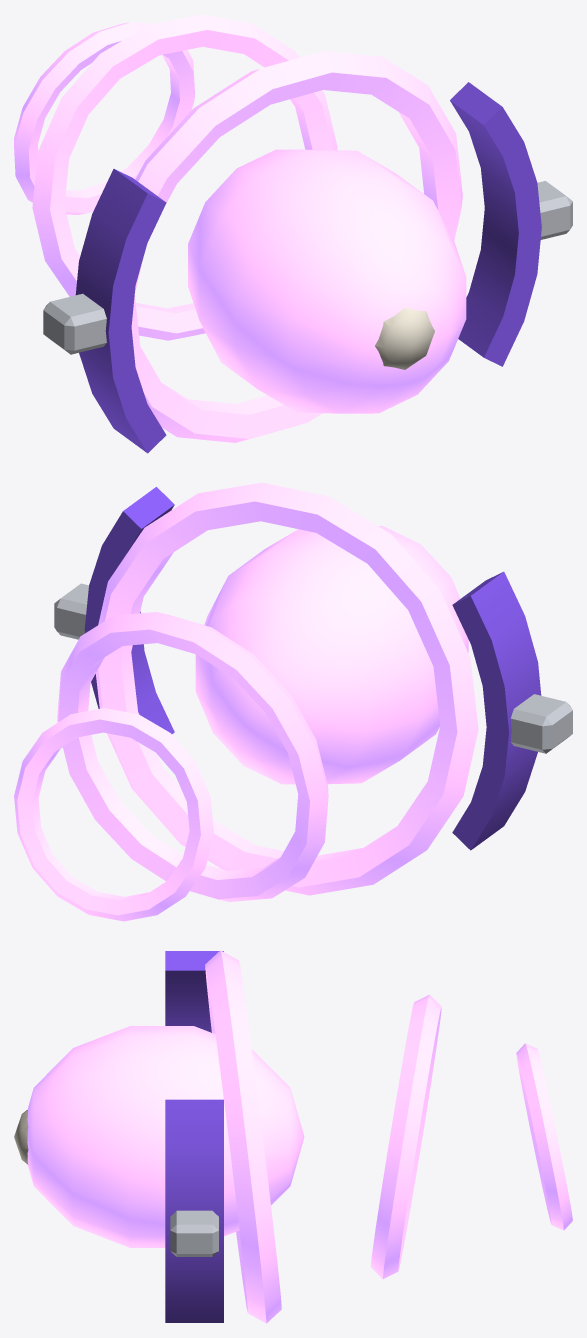
The model's file is phase.glb.
3 views of the same model, one above another, from view 1: azimuth 30°, elevation 25°; view 2: azimuth 150°, elevation 25°; view 3: azimuth 270°, elevation 25° (orthographic). The views are drawn at different scales.
Parts seen in each view (by area): view 1: Projectile; view 2: Projectile; view 3: Projectile.
Part boxes in pixels (x1,y1,x2,y2): Projectile: (14, 14, 572, 453); Projectile: (14, 482, 572, 921); Projectile: (14, 950, 572, 1323).
Size of the model in its own units: 0.31 by 0.2272 by 0.3435.
